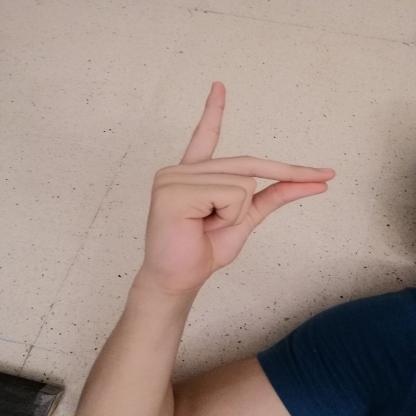TAA: (130, 74, 349, 292)
